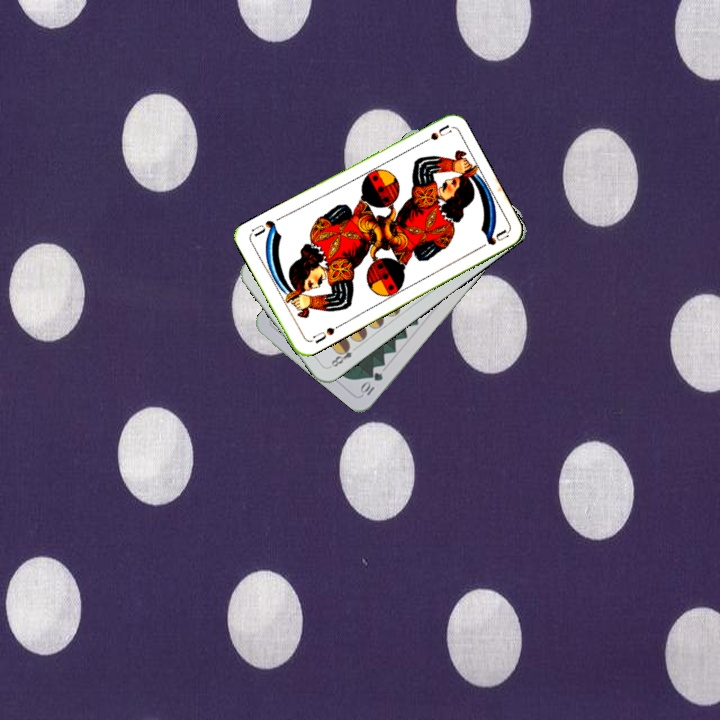E8: (325, 340, 361, 370)
G10: (357, 368, 386, 398)
SU: (414, 121, 453, 148), (306, 320, 343, 346)
